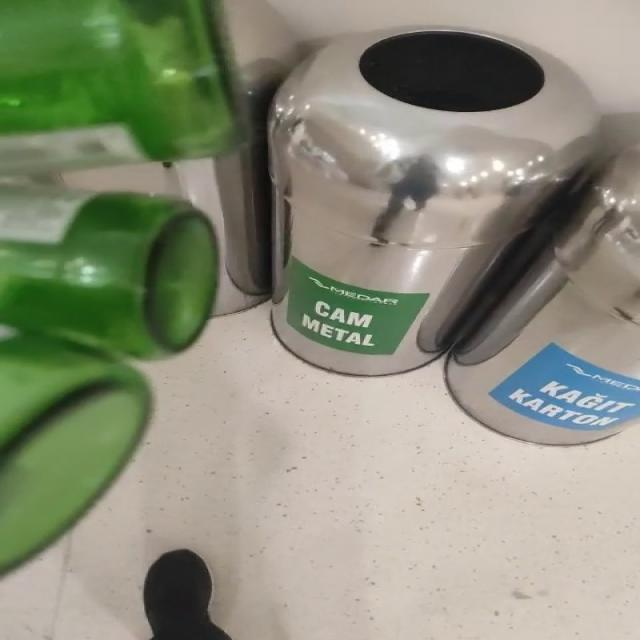glass: (0, 182, 217, 572), (1, 0, 235, 175)
